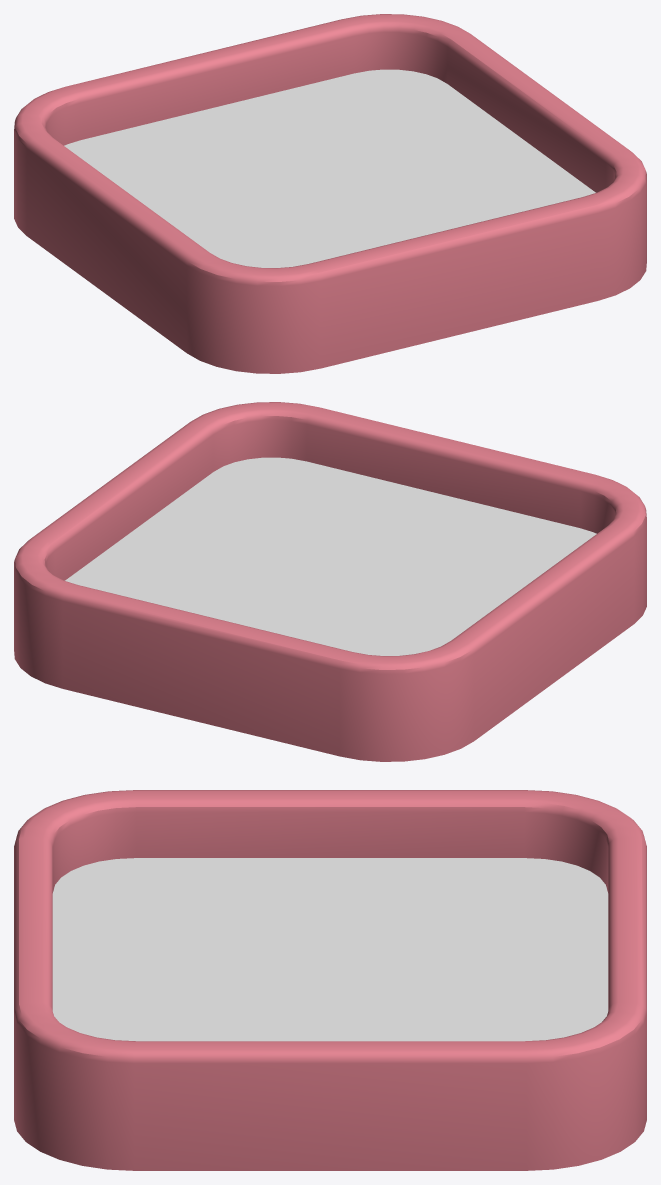
File: tray_10.fbx
3 views of the same model, one above another, from view 1: azimuth 30°, elevation 25°; view 2: azimuth 150°, elevation 25°; view 3: azimuth 270°, elevation 25° (orthographic). The views are drawn at different scales.
Visible parts, largest first — view 1: tray_10; view 2: tray_10; view 3: tray_10.
Boxes of the visible parts, x1=… form: tray_10: x1=14, y1=14, x2=646, y2=373; tray_10: x1=14, y1=402, x2=646, y2=761; tray_10: x1=14, y1=790, x2=646, y2=1170.
Size of the model in its own units: 0.2064 by 0.042 by 0.2064.
